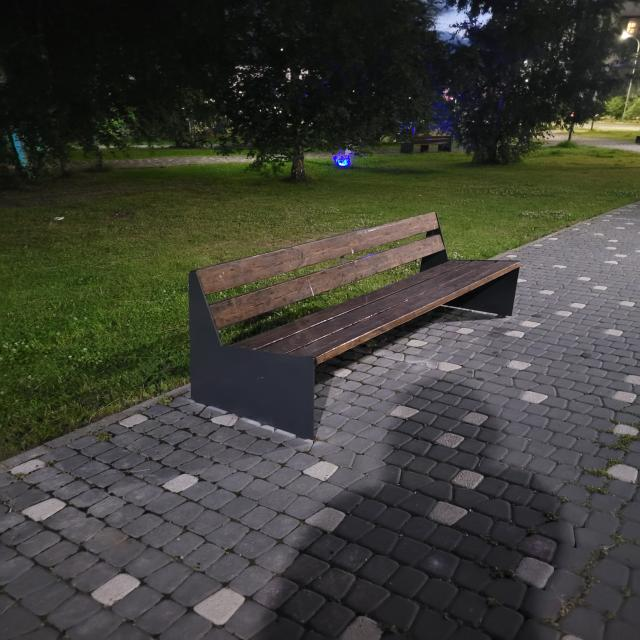Bench: (190, 212, 521, 440)
